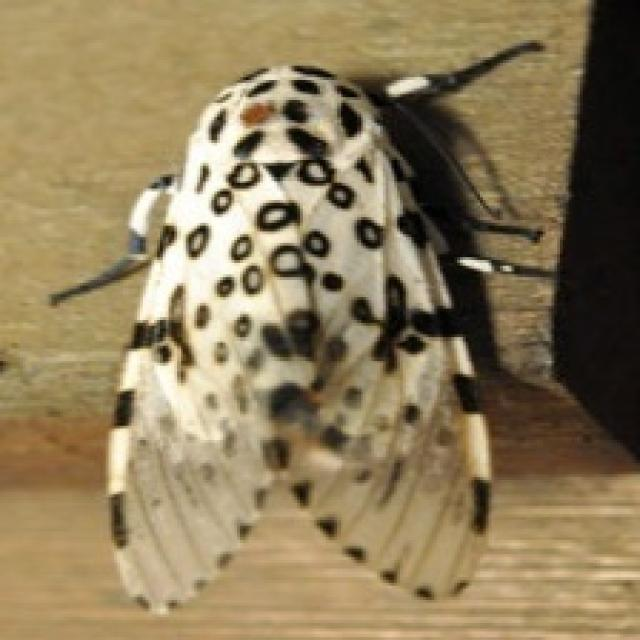butterfly: (46, 35, 557, 614)
